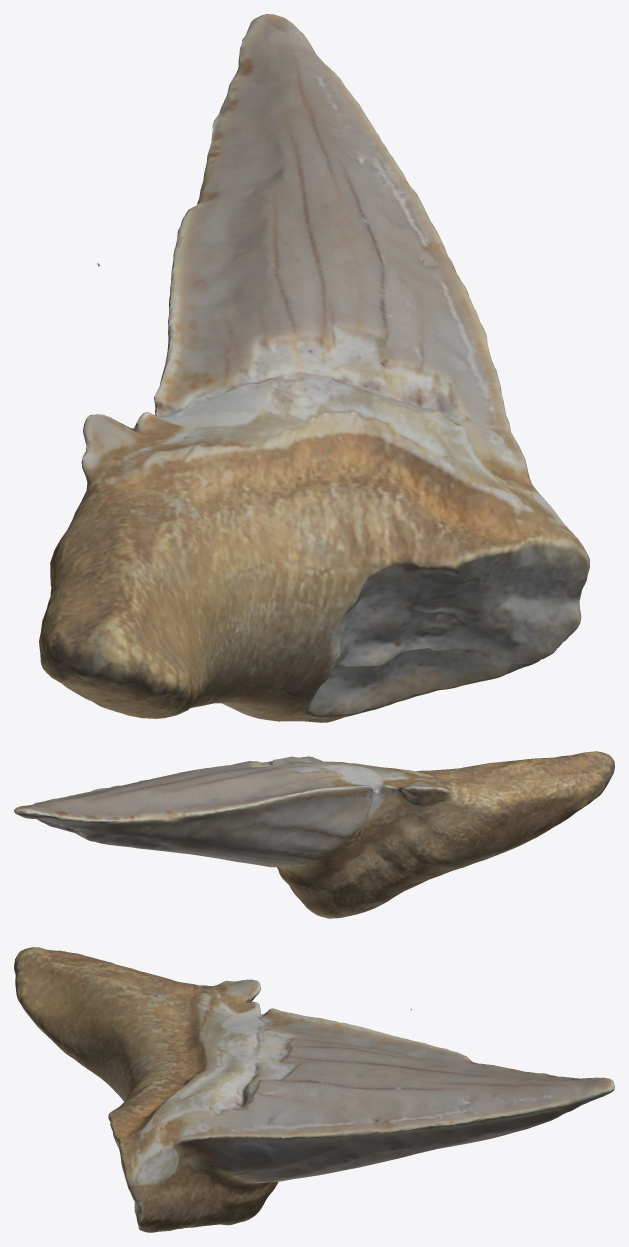
The model's file is piece-004.glb.
3 renders of one model, top to bottom at view 1: azimuth 30°, elevation 25°; view 2: azimuth 150°, elevation 25°; view 3: azimuth 270°, elevation 25°, orthographic. The views are drawn at different scales.
Visible parts, largest first — view 1: Model; view 2: Model; view 3: Model.
Boxes of the visible parts, x1=… form: Model: x1=39, y1=14, x2=589, y2=722; Model: x1=14, y1=751, x2=614, y2=918; Model: x1=14, y1=947, x2=614, y2=1232.
Size of the model in its own units: 0.4243 by 0.2175 by 0.5327.
Materials: 4 (4 with a texture image).
